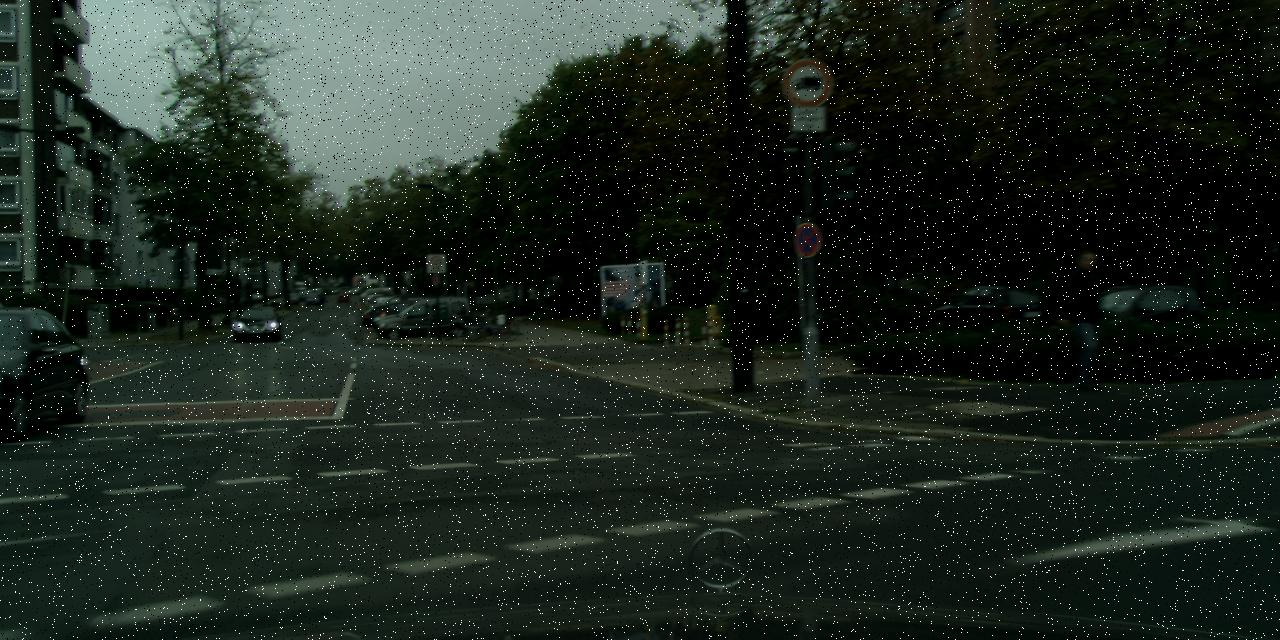ped: (1059, 248, 1116, 390)
